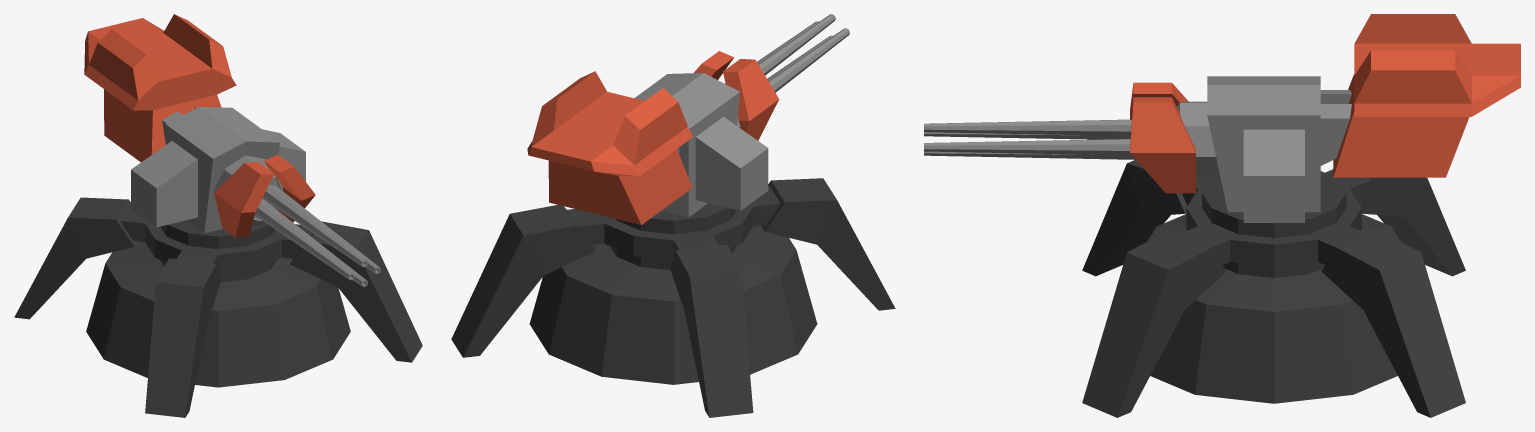
Rendered from Turrets_6.fbx.
3 renders of one model, left to right at view 1: azimuth 30°, elevation 25°; view 2: azimuth 150°, elevation 25°; view 3: azimuth 270°, elevation 25°, orthographic. The views are drawn at different scales.
Parts seen in each view (by area): view 1: Turret_4.002, Turret_4.003, Turret_4.001; view 2: Turret_4.002, Turret_4.003, Turret_4.001; view 3: Turret_4.002, Turret_4.003, Turret_4.001.
Boxes of the visible parts, x1=… form: Turret_4.002: x1=14, y1=197, x2=422, y2=417; Turret_4.003: x1=84, y1=14, x2=315, y2=237; Turret_4.001: x1=131, y1=107, x2=380, y2=286; Turret_4.002: x1=451, y1=178, x2=895, y2=417; Turret_4.003: x1=527, y1=51, x2=779, y2=224; Turret_4.001: x1=634, y1=14, x2=849, y2=217; Turret_4.002: x1=1082, y1=160, x2=1465, y2=417; Turret_4.003: x1=1130, y1=14, x2=1520, y2=193; Turret_4.001: x1=924, y1=76, x2=1351, y2=222.
Size of the model in its own units: 2.42 by 2.12 by 3.77.
